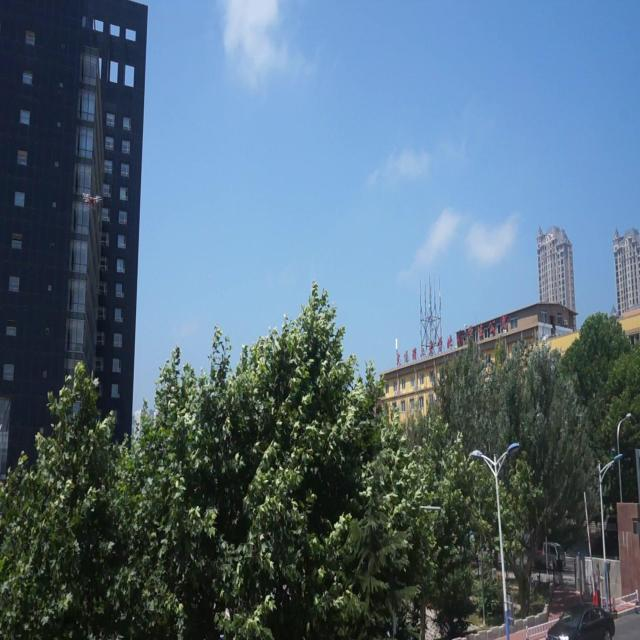drone: (81, 188, 102, 206)
